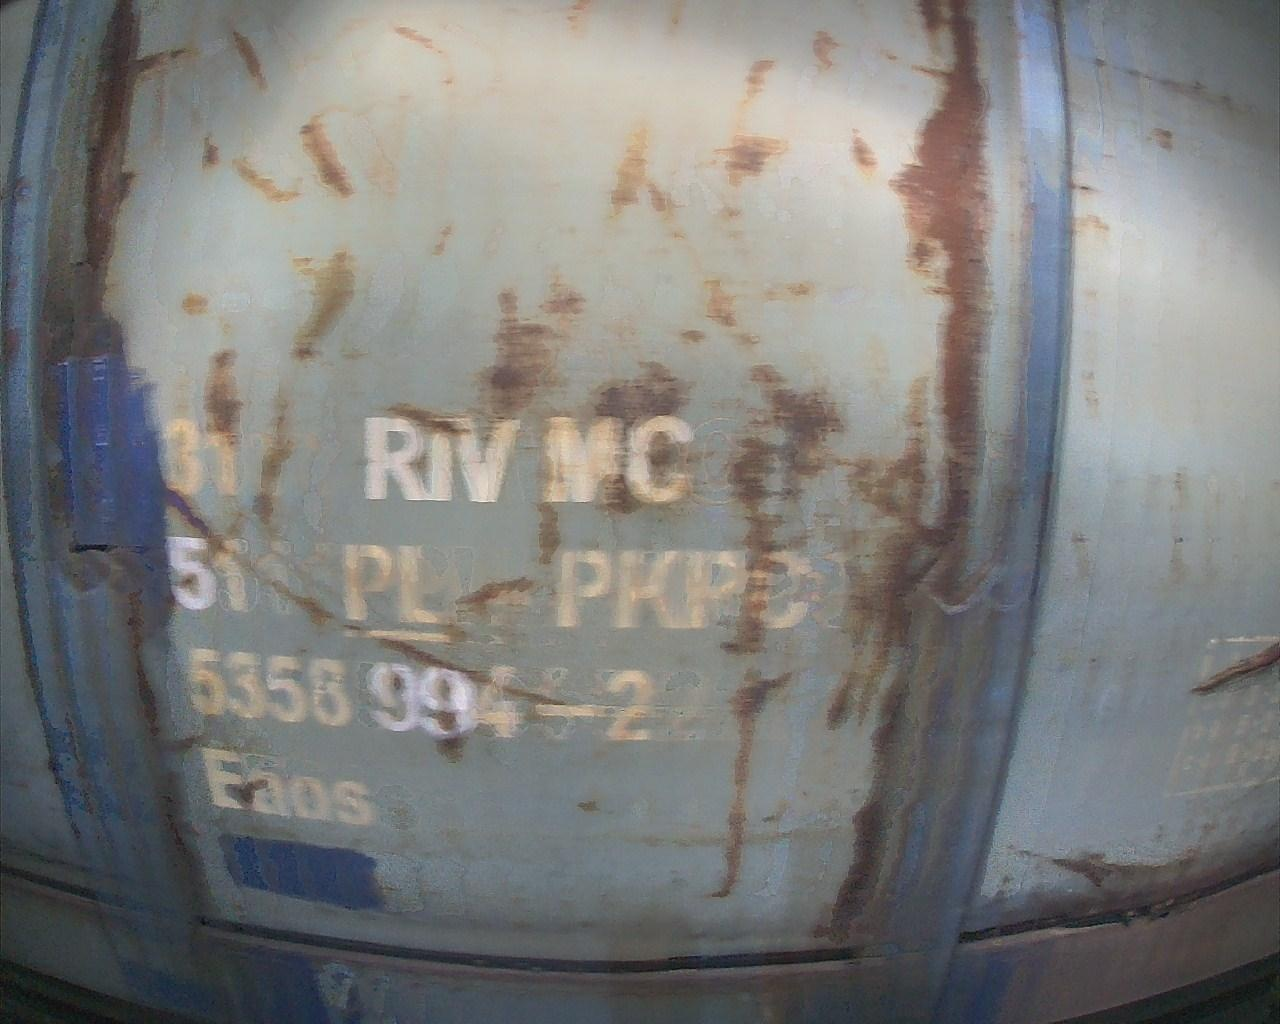UIC: (148, 408, 811, 835)
